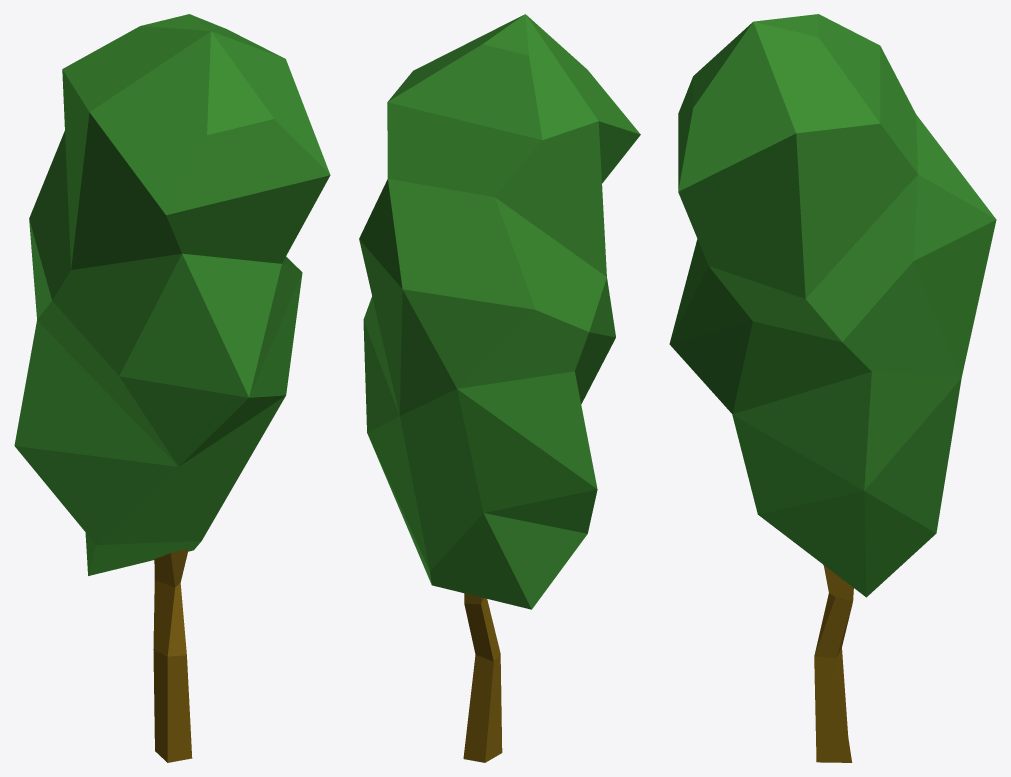
3 renders of one model, left to right at view 1: azimuth 30°, elevation 25°; view 2: azimuth 150°, elevation 25°; view 3: azimuth 270°, elevation 25°, orthographic. The views are drawn at different scales.
Visible parts, largest first — view 1: Cube.001, Cube; view 2: Cube.001, Cube; view 3: Cube.001, Cube.
Part boxes in pixels (x1,y1,x2,y2): Cube.001: [14, 14, 330, 575]; Cube: [153, 548, 192, 762]; Cube.001: [359, 14, 640, 609]; Cube: [463, 593, 502, 762]; Cube.001: [669, 14, 996, 597]; Cube: [814, 565, 853, 762].
Size of the model in its own units: 26.78 by 78.17 by 31.56.
